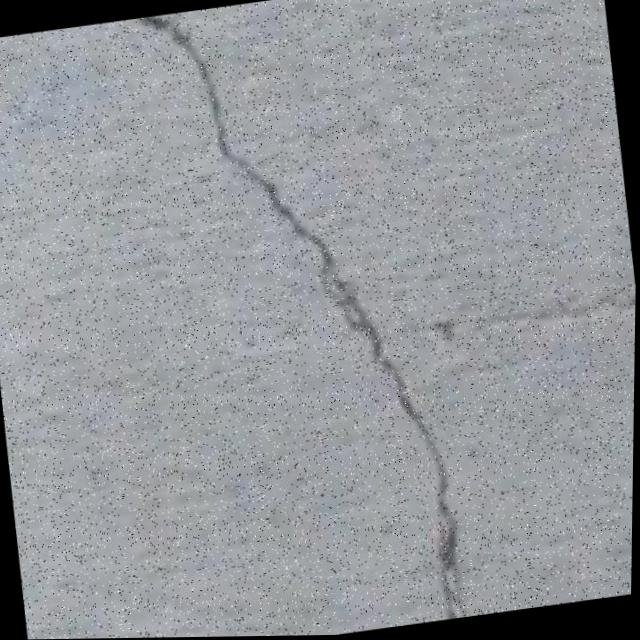Crack: (103, 0, 487, 639)
